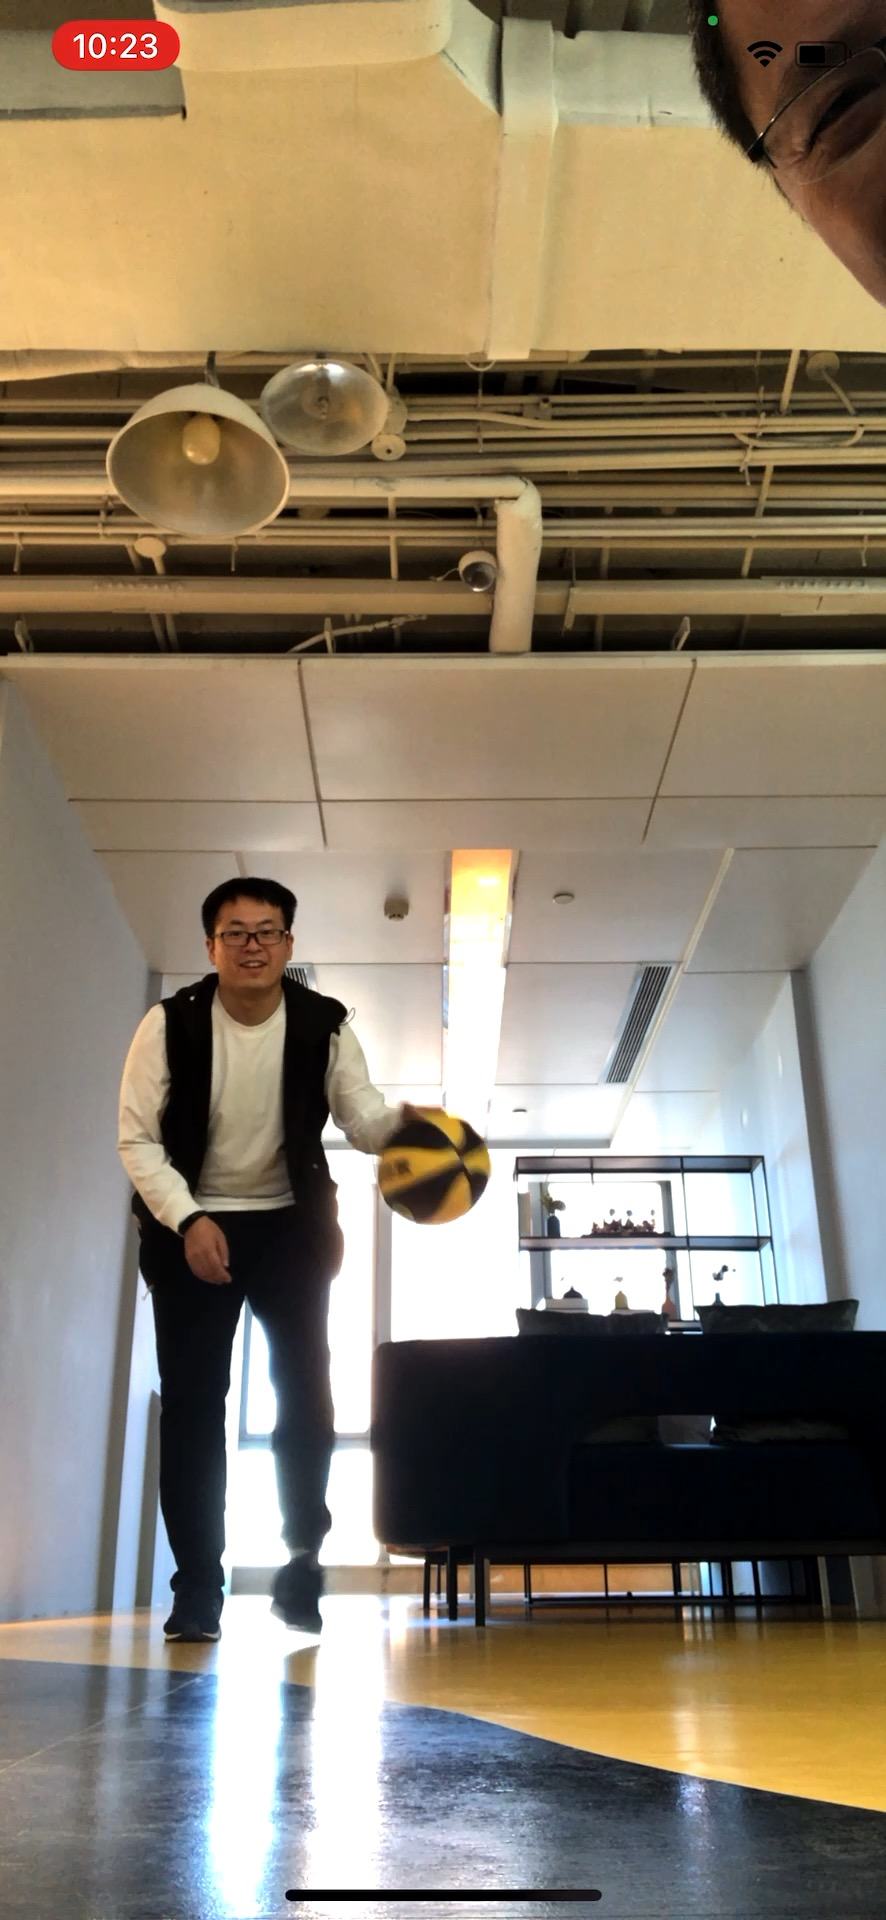ball: (374, 1109, 492, 1229)
